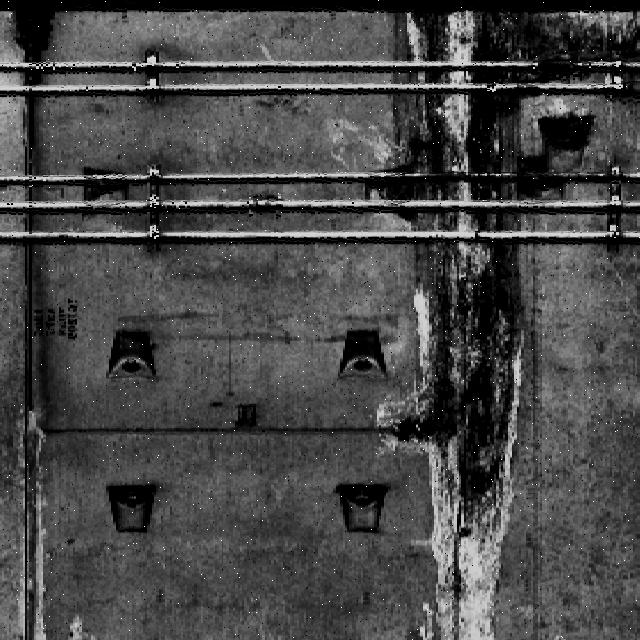leakage: (388, 1, 550, 639), (3, 9, 55, 119)
